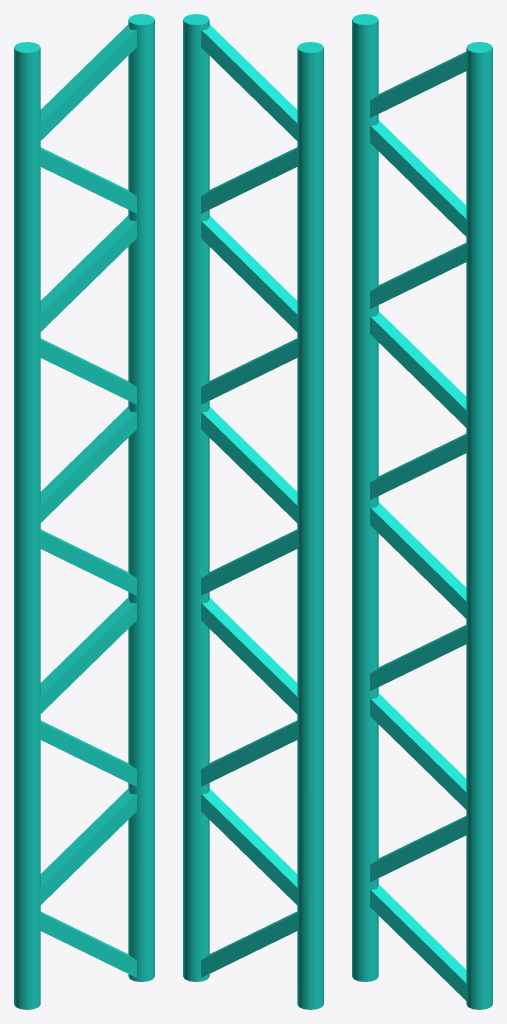
File: Girder.fbx
3 views of the same model, side by side, from view 1: azimuth 30°, elevation 25°; view 2: azimuth 150°, elevation 25°; view 3: azimuth 330°, elevation 25° (orthographic).
Visible parts, largest first — view 1: Girder; view 2: Girder; view 3: Girder.
Part boxes in pixels (<box>): Girder: <box>14,14,154,1009</box>; Girder: <box>183,14,323,1009</box>; Girder: <box>352,14,492,1009</box>.
Bounding box in the file's own units: 120 × 800 × 20.14.
